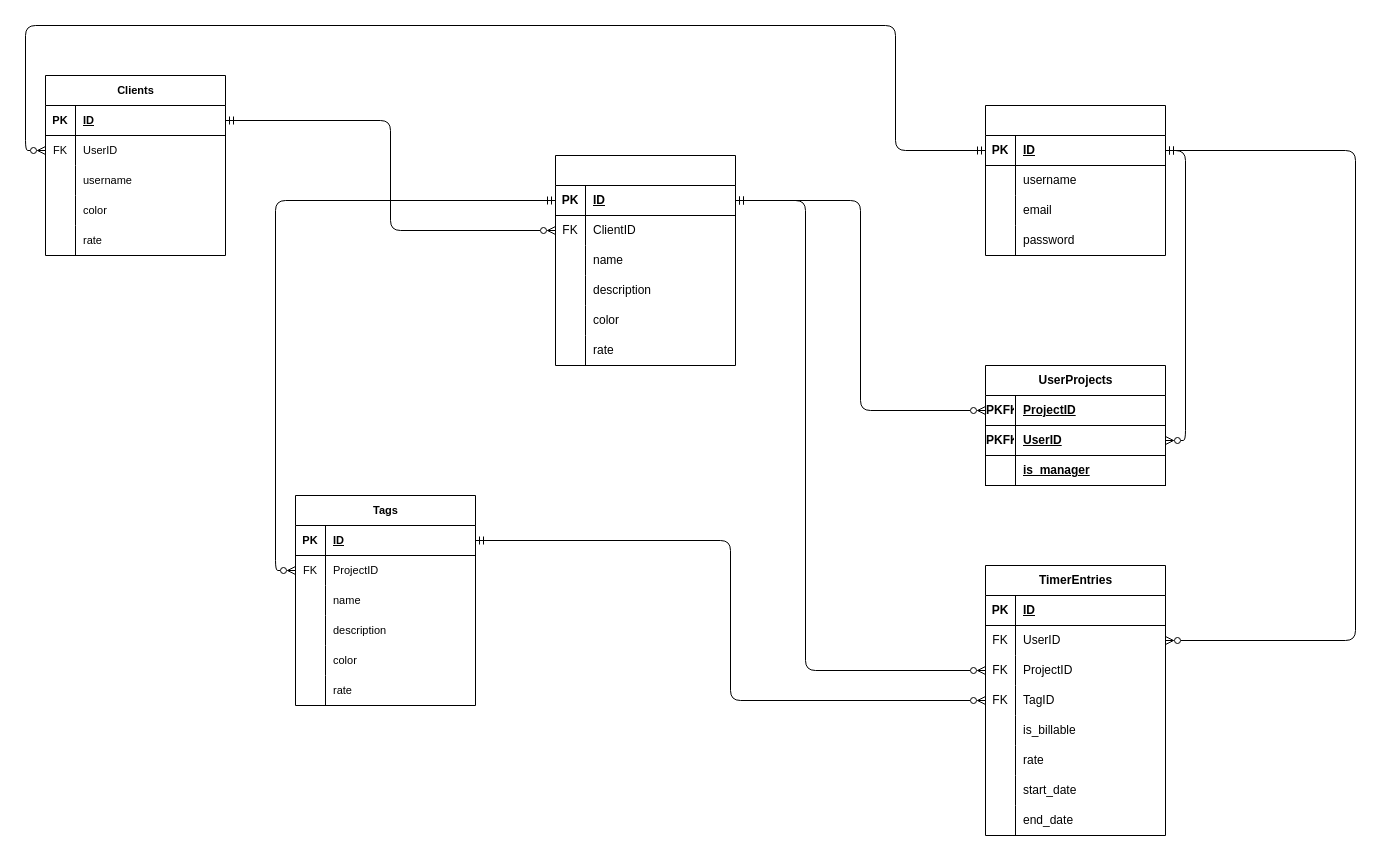
This 1382x853 diagram has some shape labels left out. The box of each missing label's shape, as (x1, y1, x2, y2) in pixels:
Projects: (554, 154, 736, 366)
Users: (984, 104, 1166, 256)
